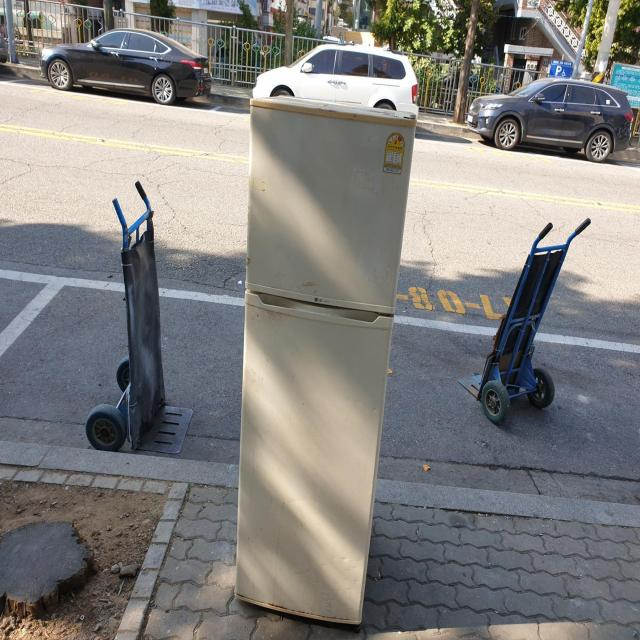refrigerator: (233, 92, 417, 633)
